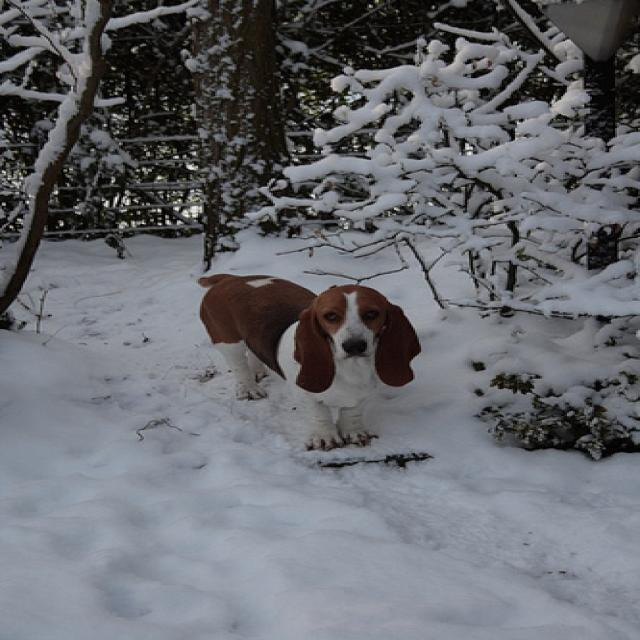dog-basset_hound: (185, 268, 427, 460)
